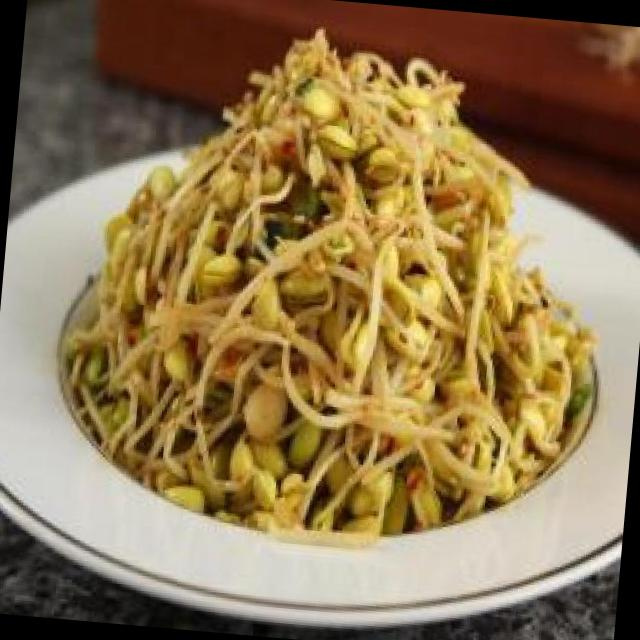mung_bean_sprouts: (41, 16, 624, 564)
